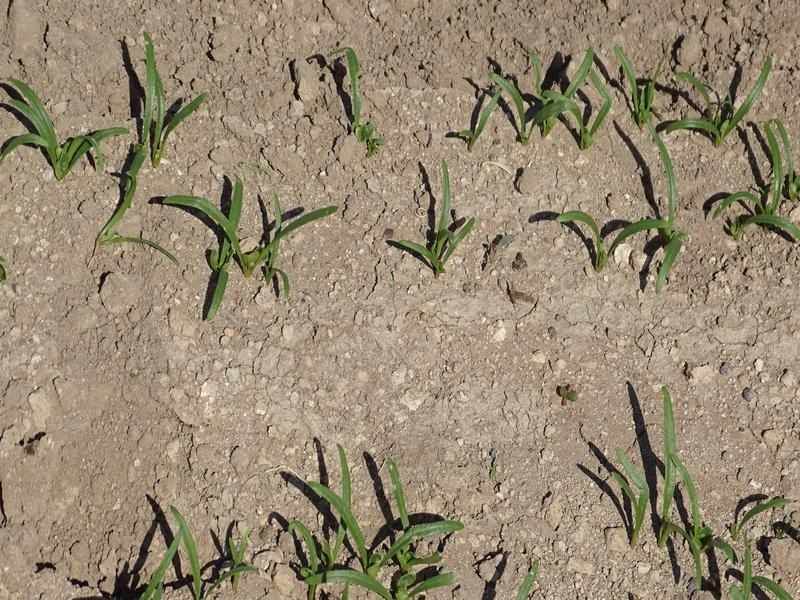Espinaca: (597, 397, 793, 600), (283, 434, 467, 600), (459, 56, 768, 136), (152, 171, 326, 312), (545, 147, 690, 283), (9, 76, 120, 185), (141, 504, 255, 597), (401, 170, 484, 271), (137, 39, 202, 160), (334, 45, 396, 154), (742, 130, 800, 242)
